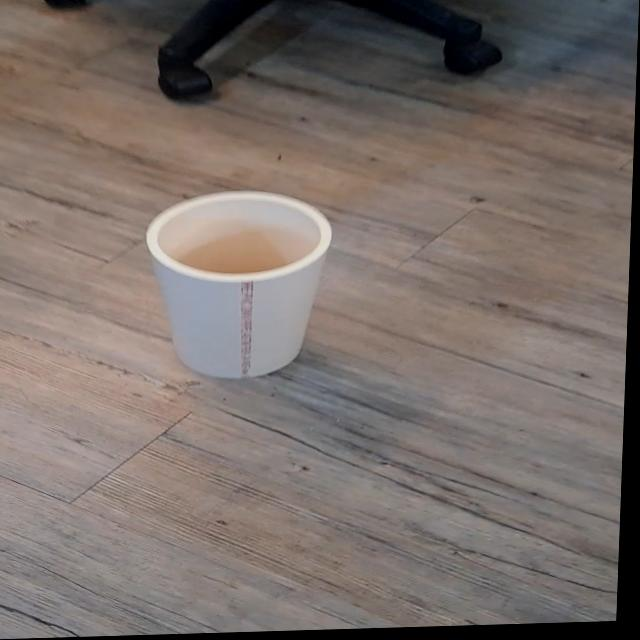CORAL: (134, 185, 340, 383)
